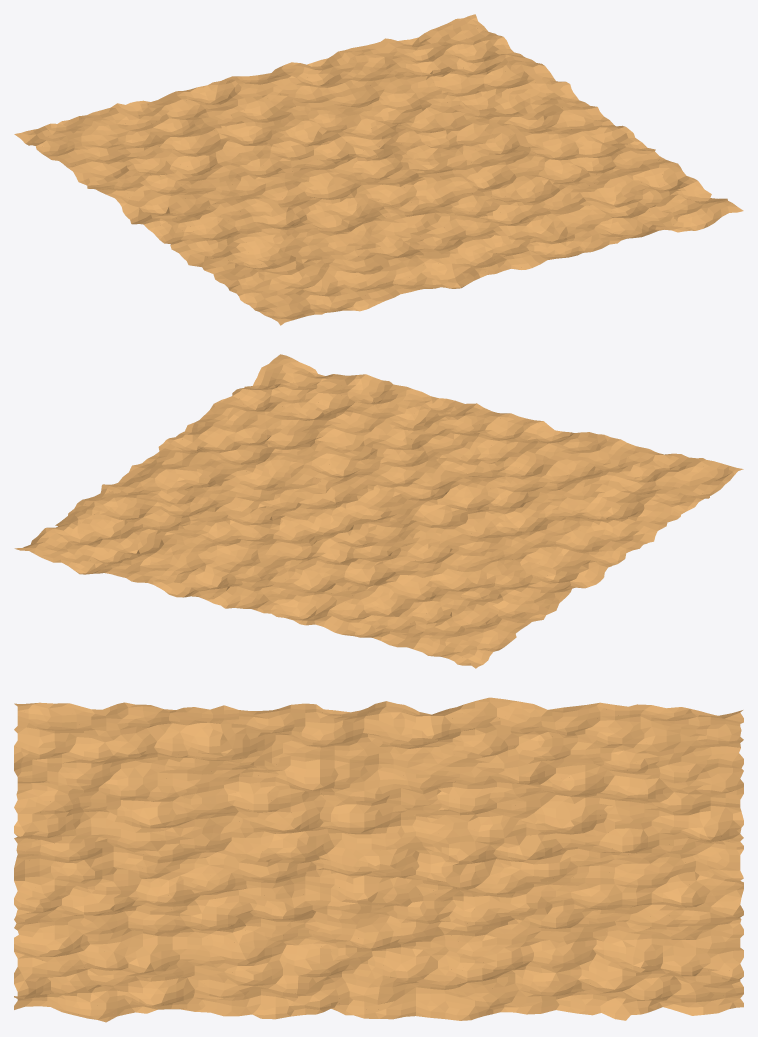
Rendered from Desert_Plane 1.fbx.
The picture shows the model from 3 angles, top to bottom: view 1: azimuth 30°, elevation 25°; view 2: azimuth 150°, elevation 25°; view 3: azimuth 270°, elevation 25°; orthographic projection. The views are drawn at different scales.
Visible parts, largest first — view 1: Cube; view 2: Cube; view 3: Cube.
Part boxes in pixels (x1,y1,x2,y2): Cube: [14, 14, 743, 325]; Cube: [14, 354, 743, 668]; Cube: [14, 697, 743, 1022].
Size of the model in its own units: 50661 by 1393 by 50000.
